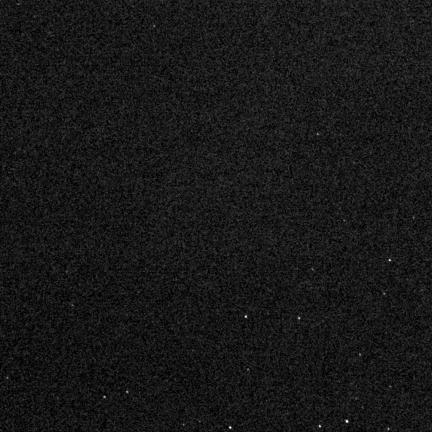blob: (126, 391, 130, 395), (103, 396, 107, 399), (389, 259, 392, 262), (245, 316, 248, 319), (298, 317, 301, 320), (346, 420, 348, 423)
